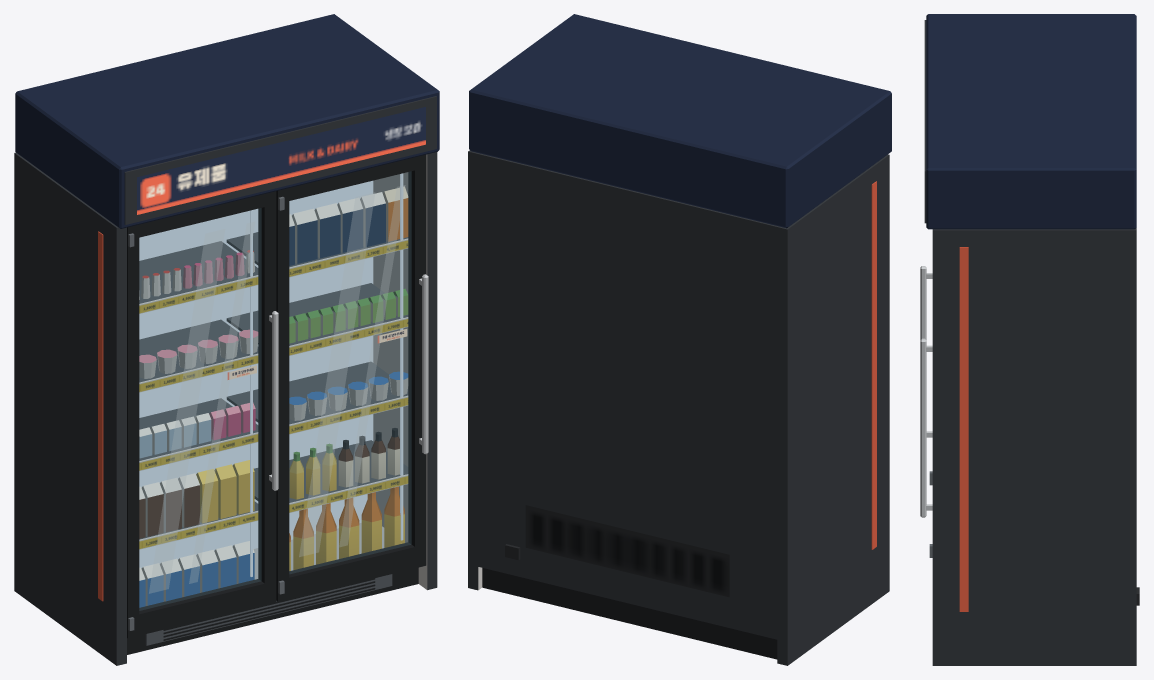
The model's file is SC_Fix_Fridge_Dairy_2Door.gltf.
3 renders of one model, left to right at view 1: azimuth 30°, elevation 25°; view 2: azimuth 150°, elevation 25°; view 3: azimuth 270°, elevation 25°, orthographic.
Parts seen in each view (by area): view 1: SC_Fix_Fridge_Dairy_2Door; view 2: SC_Fix_Fridge_Dairy_2Door; view 3: SC_Fix_Fridge_Dairy_2Door.
Boxes of the visible parts, box(x1,y1,x2,y2) form: SC_Fix_Fridge_Dairy_2Door: box(14, 14, 439, 665); SC_Fix_Fridge_Dairy_2Door: box(468, 14, 891, 665); SC_Fix_Fridge_Dairy_2Door: box(920, 14, 1139, 665).
Size of the model in its own units: 1.42 by 2.1 by 0.84.
Materials: 5 (5 with a texture image).
